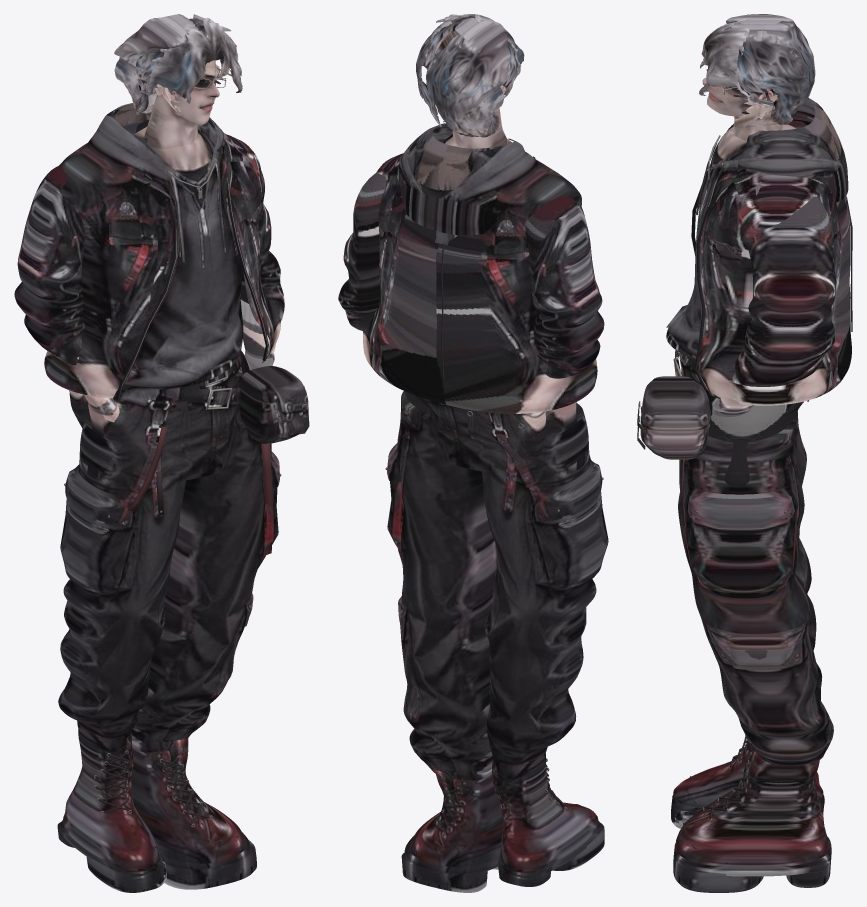
Rendered from passer-05.glb.
3 renders of one model, left to right at view 1: azimuth 30°, elevation 25°; view 2: azimuth 150°, elevation 25°; view 3: azimuth 270°, elevation 25°, orthographic.
Parts seen in each view (by area): view 1: 画右弯膝工装裤腿, 画左弯膝工装裤腿, 短外套敞襟, 连帽衫上身, 画左夹克袖, 裤腰与裆部, 画右酒红马丁靴, 画左酒红马丁靴, 画左大腿侧袋, 胯前工具袋, 后脑及后发 · 闭合体积, 翻折兜帽 (+17 smaller); view 2: 短外套敞襟, 画右弯膝工装裤腿, 画左弯膝工装裤腿, 画左夹克袖, 翻折兜帽, 后脑及后发 · 闭合体积, 画左酒红马丁靴, 画右酒红马丁靴, 画左大腿侧袋, 画右夹克袖, 裤腰与裆部, 腰后翻盖袋 (+10 smaller); view 3: 画右弯膝工装裤腿, 短外套敞襟, 画右夹克袖, 画右酒红马丁靴, 画右大腿侧袋, 翻折兜帽, 胯前工具袋, 左侧鬓发至后枕 · 轮廓与耳部开口, 裤腰与裆部, 连帽衫上身, 画右大腿侧袋弯折袋盖, 画左酒红马丁靴 (+10 smaller).
Boxes of the visible parts, bbox=[...] form: 画右弯膝工装裤腿: bbox=[131, 420, 271, 743]; 画左弯膝工装裤腿: bbox=[58, 417, 185, 743]; 短外套敞襟: bbox=[44, 119, 280, 398]; 连帽衫上身: bbox=[123, 127, 243, 391]; 画左夹克袖: bbox=[14, 166, 84, 358]; 裤腰与裆部: bbox=[87, 350, 251, 482]; 画右酒红马丁靴: bbox=[132, 738, 246, 863]; 画左酒红马丁靴: bbox=[63, 729, 160, 868]; 画左大腿侧袋: bbox=[60, 465, 135, 593]; 胯前工具袋: bbox=[239, 366, 308, 443]; 后脑及后发 · 闭合体积: bbox=[114, 14, 194, 114]; 翻折兜帽: bbox=[87, 103, 223, 169]; 短外套敞襟: bbox=[363, 139, 597, 413]; 画右弯膝工装裤腿: bbox=[397, 391, 496, 779]; 画左弯膝工装裤腿: bbox=[482, 403, 596, 775]; 画左夹克袖: bbox=[525, 195, 604, 378]; 翻折兜帽: bbox=[398, 123, 538, 235]; 后脑及后发 · 闭合体积: bbox=[426, 17, 510, 136]; 画左酒红马丁靴: bbox=[492, 753, 598, 869]; 画右酒红马丁靴: bbox=[409, 769, 503, 866]; 画左大腿侧袋: bbox=[532, 458, 608, 588]; 画右夹克袖: bbox=[338, 172, 386, 330]; 裤腰与裆部: bbox=[405, 391, 585, 472]; 腰后翻盖袋: bbox=[467, 410, 545, 459]; 画右弯膝工装裤腿: bbox=[678, 416, 833, 765]; 短外套敞襟: bbox=[698, 112, 851, 405]; 画右夹克袖: bbox=[732, 197, 836, 386]; 画右酒红马丁靴: bbox=[675, 750, 829, 867]; 画右大腿侧袋: bbox=[684, 487, 797, 593]; 翻折兜帽: bbox=[737, 97, 848, 201]; 胯前工具袋: bbox=[640, 376, 710, 459]; 左侧鬓发至后枕 · 轮廓与耳部开口: bbox=[706, 28, 807, 124]; 裤腰与裆部: bbox=[679, 353, 801, 487]; 连帽衫上身: bbox=[666, 124, 796, 359]; 画右大腿侧袋弯折袋盖: bbox=[686, 492, 796, 525]; 画左酒红马丁靴: bbox=[673, 740, 823, 808].
Size of the model in its own units: 0.555 by 1.78 by 0.4083.
Materials: 179 (155 with a texture image).
